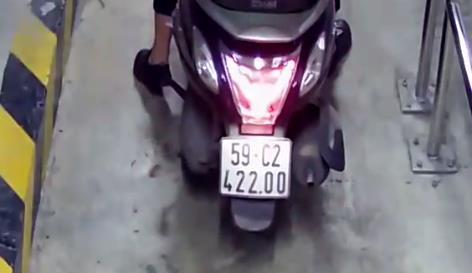lisence: (218, 136, 291, 199)
